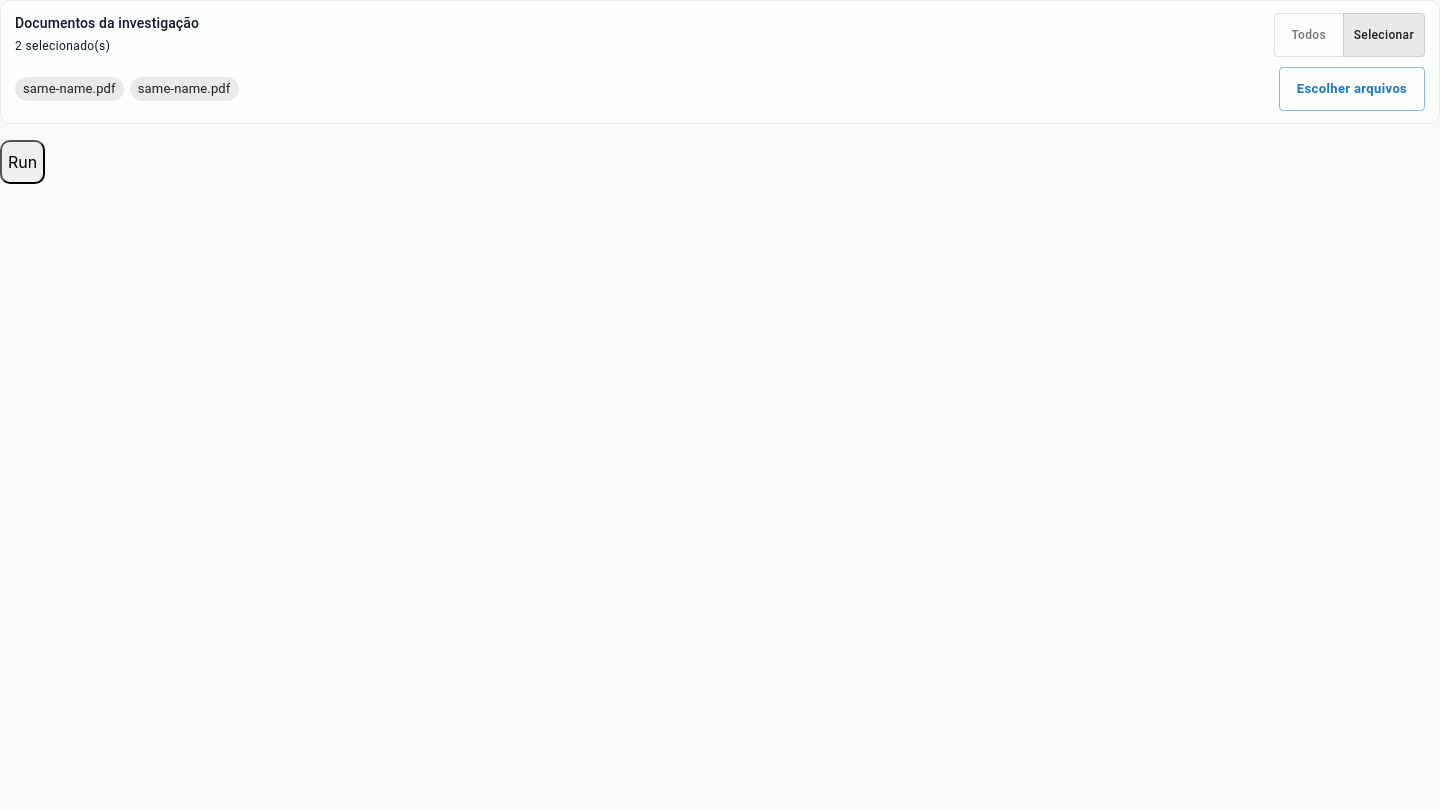
Test: preserves a disappeared document until explicitly removed
This screenshot has width=1440, height=810.
Expected: the button "Run" is enabled, [0,140,45,184]
Click the button "Escolher arquivos" at (1352, 89), box [1279,67,1425,111]
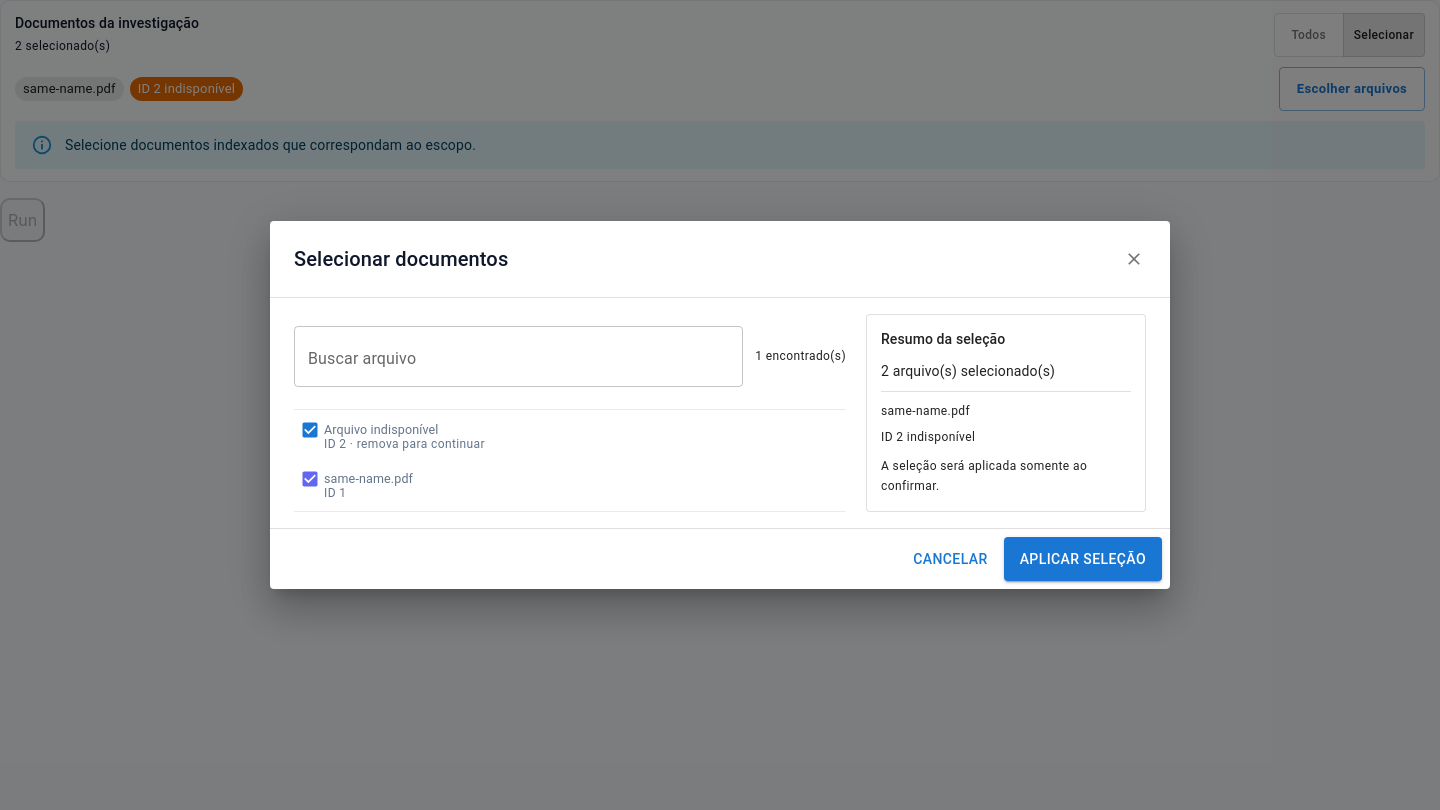
Now the checkbox labelled "Arquivo indisponível ID 2 · remova para continuar" is checked, box [300,420,485,451]
Click the button "Cancelar" at (950, 559), box [905,537,996,581]
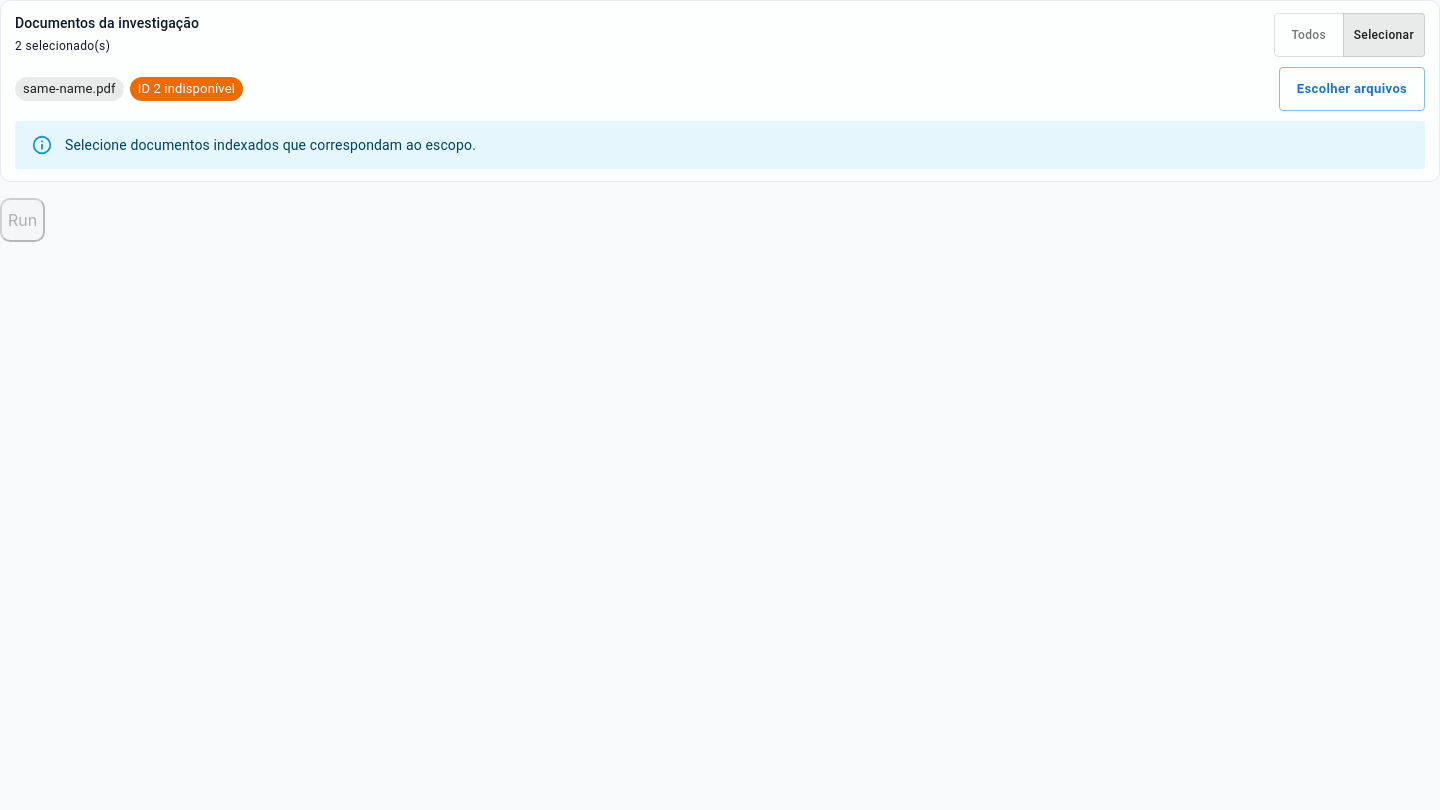
Now the button "Run" is disabled, box [0,198,45,242]
Now the dialog is gone
